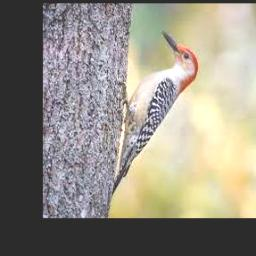Woodpecker: (111, 31, 199, 196)
